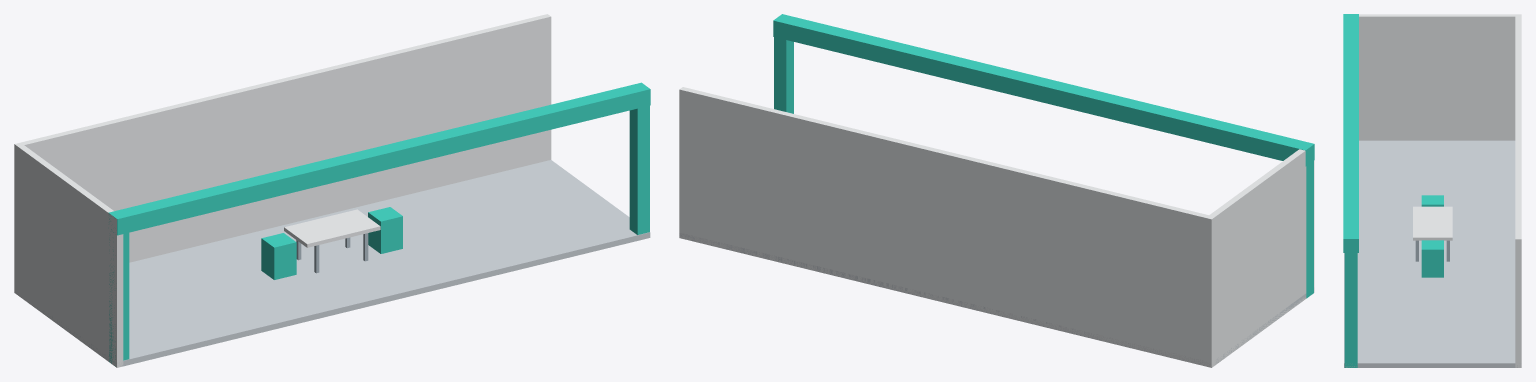
3 renders of one model, left to right at view 1: azimuth 30°, elevation 25°; view 2: azimuth 150°, elevation 25°; view 3: azimuth 270°, elevation 25°, orthographic. The views are drawn at different scales.
Parts seen in each view (by area): view 1: Exhibition Booth Concept; view 2: Exhibition Booth Concept; view 3: Exhibition Booth Concept.
Boxes of the visible parts, x1,y1,x2,y2 form: Exhibition Booth Concept: (14,14,650,367); Exhibition Booth Concept: (679,14,1314,367); Exhibition Booth Concept: (1343,14,1521,367).
Bounding box in the file's own units: 12 × 3.2 × 4.02.
